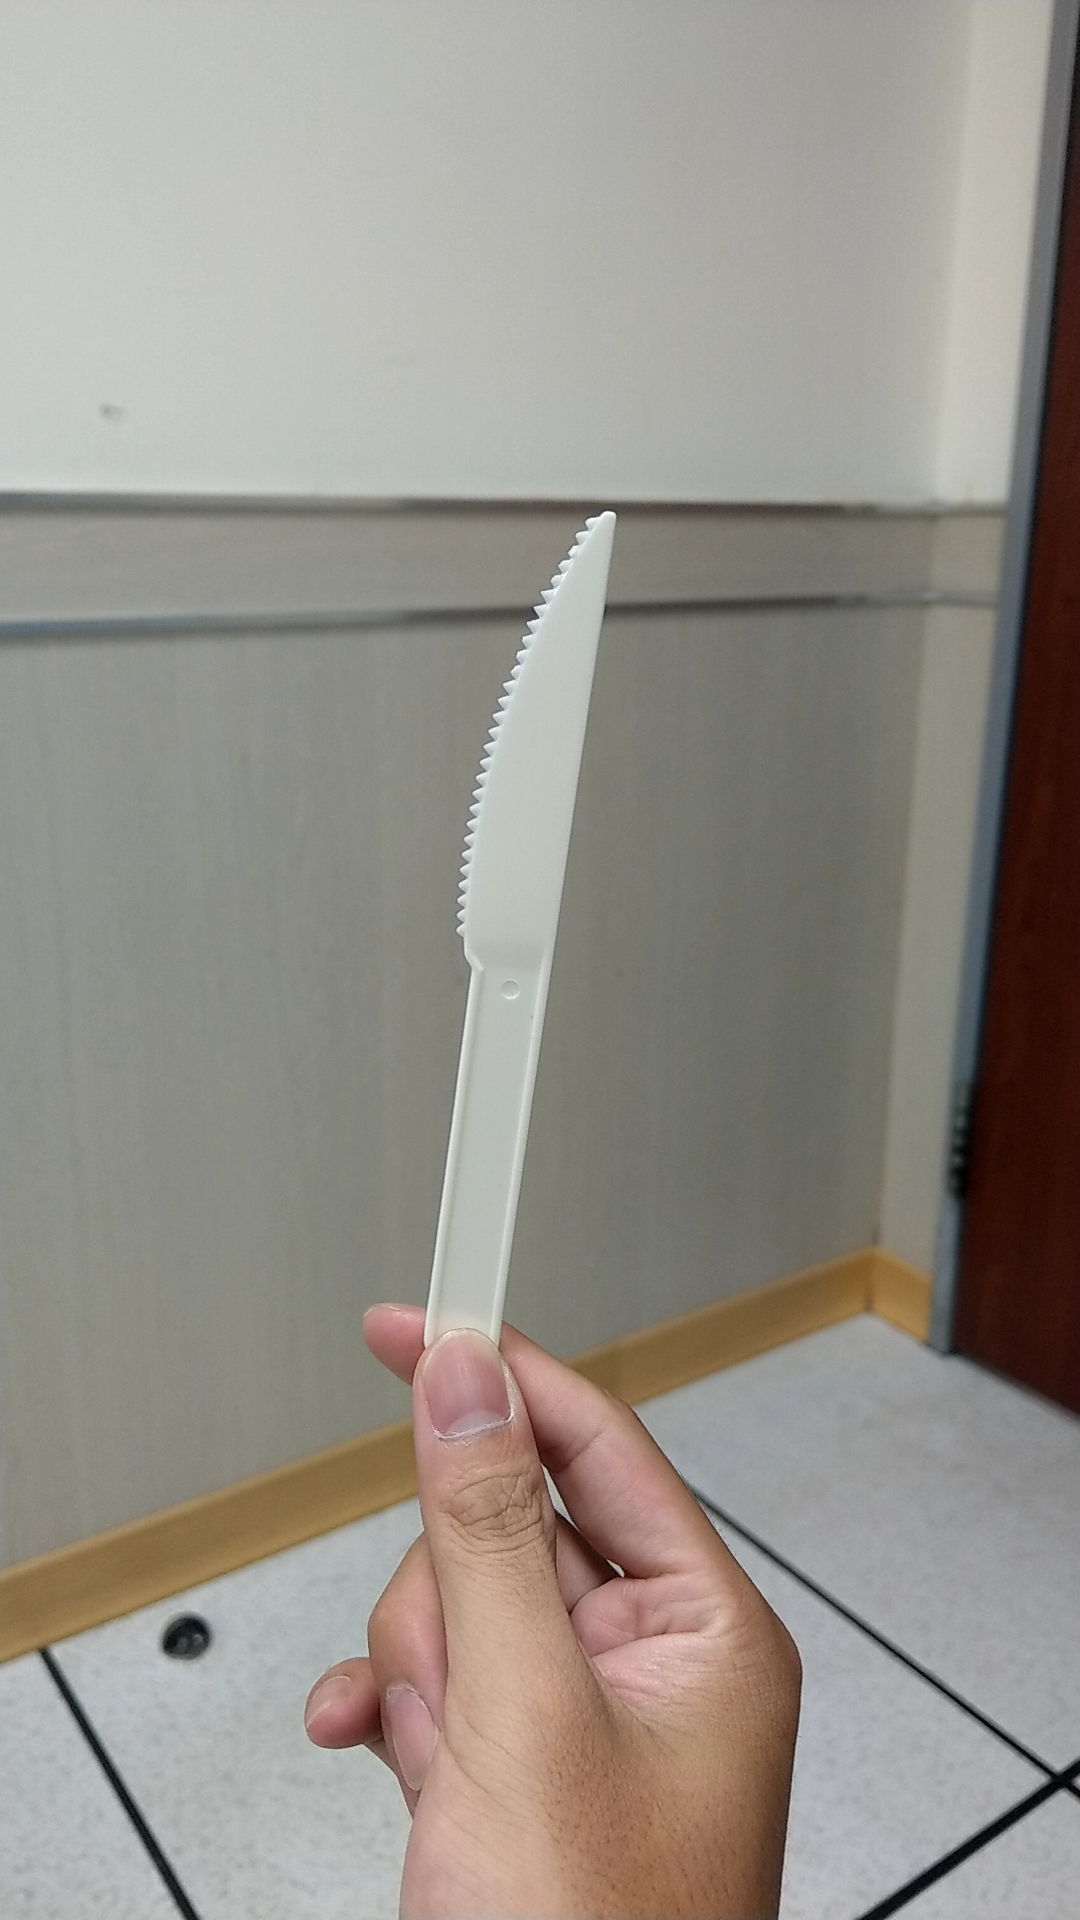knife: (415, 500, 629, 1313)
